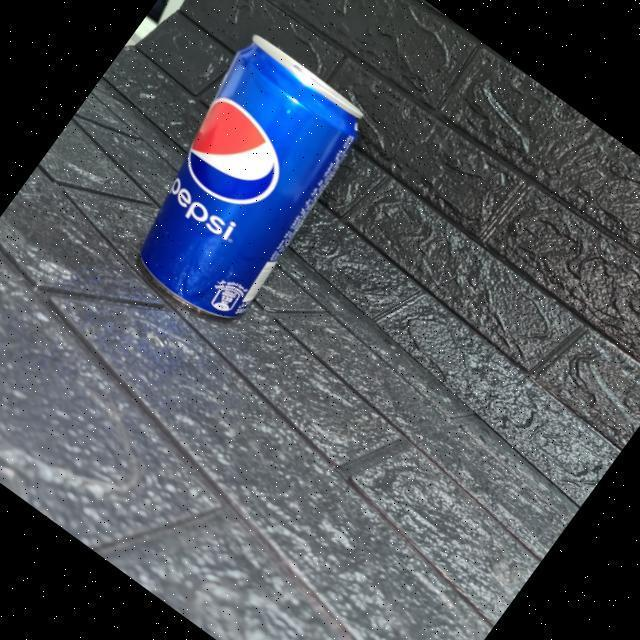can: (90, 19, 390, 346)
